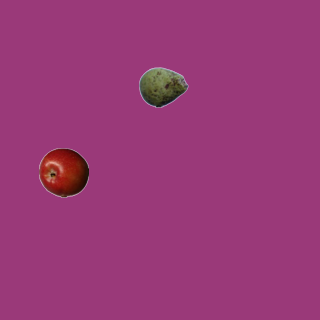Apple Braeburn: (38, 147, 88, 197)
Pear Stone: (138, 62, 188, 112)
